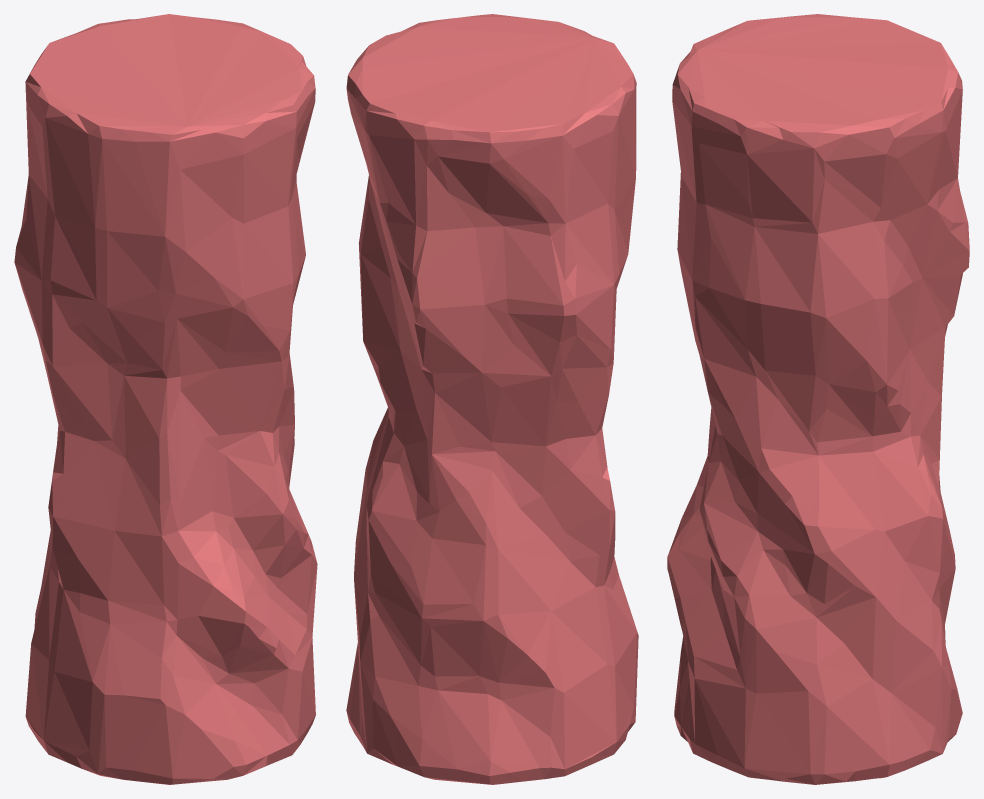
Rendered from 07-CaveColumn.fbx.
3 renders of one model, left to right at view 1: azimuth 30°, elevation 25°; view 2: azimuth 150°, elevation 25°; view 3: azimuth 270°, elevation 25°, orthographic.
Visible parts, largest first — view 1: CaveColumn; view 2: CaveColumn; view 3: CaveColumn.
Part boxes in pixels (x1,y1,x2,y2): CaveColumn: (14,14,317,784); CaveColumn: (346,14,638,784); CaveColumn: (667,14,969,784).
Bounding box in the file's own units: 214 × 535 × 222.
